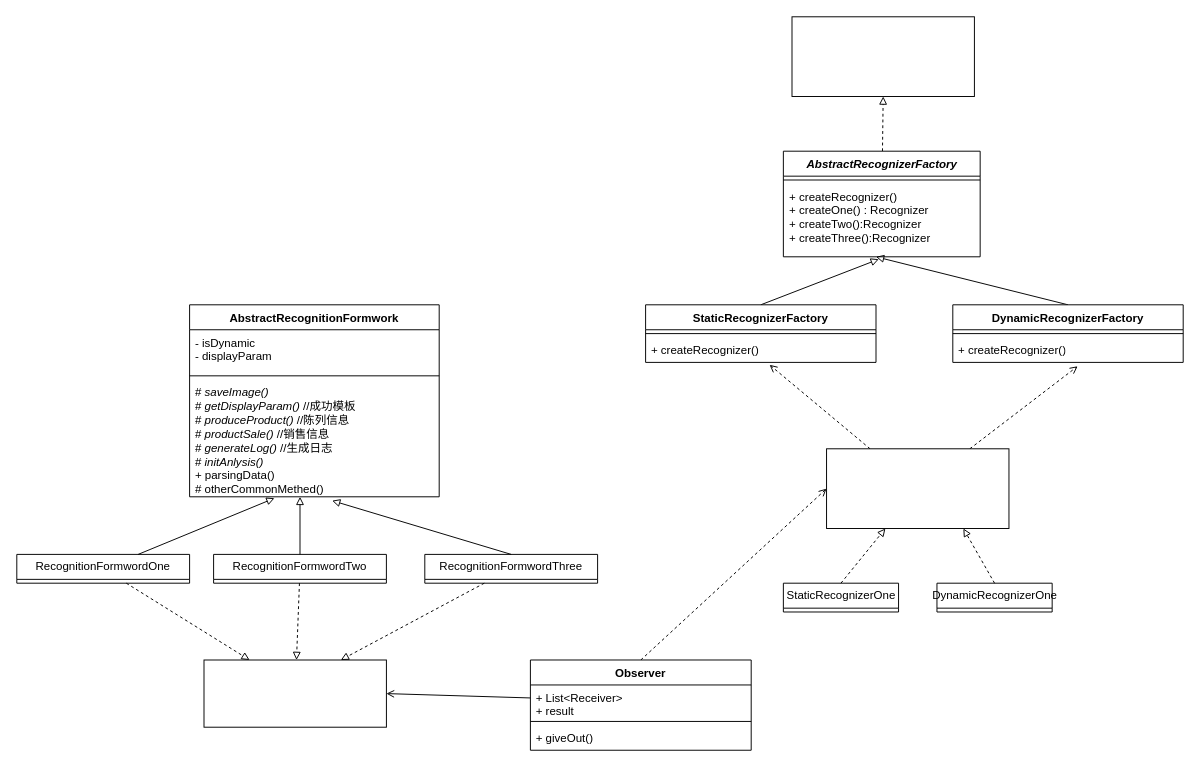
The diagram is 1200 pixels wide and 770 high, and some of its shapes have lost their labels. The centre of each missing label's shape, as x and y in pixels:
"<<Interface>> Factory + createRecognizer()" goes at [882,56].
"<<Interface>> Receiver + handle()" goes at [294,693].
"<<Interface>> Recognizer + filled() //参数设置 + execute() //调用识别方法" goes at [917,488].
